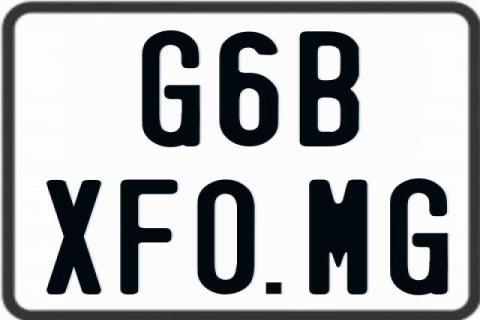0: (197, 179, 259, 295), (216, 32, 276, 150)
B: (299, 31, 359, 147)
F: (119, 177, 177, 293)
G: (390, 176, 454, 294), (140, 28, 199, 148)
M: (309, 178, 368, 298)
X: (45, 180, 104, 297)
